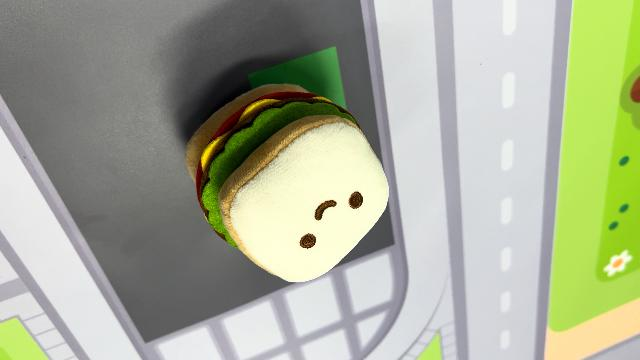sandwich: (182, 80, 392, 284)
